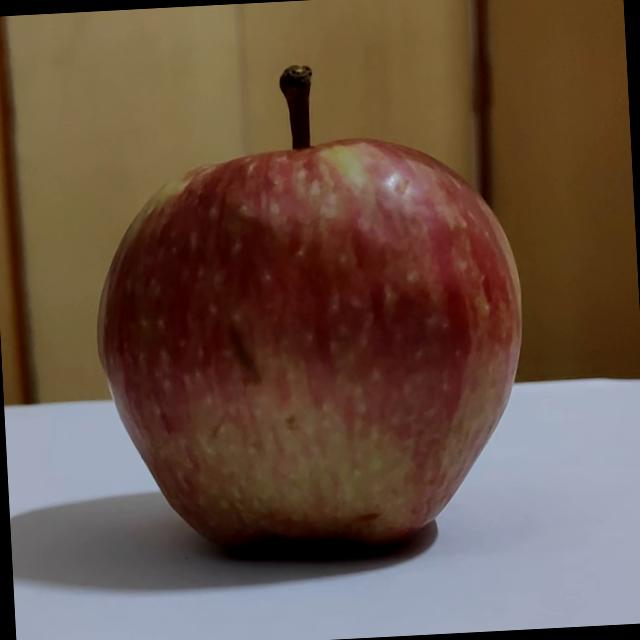apple: (71, 41, 535, 554)
